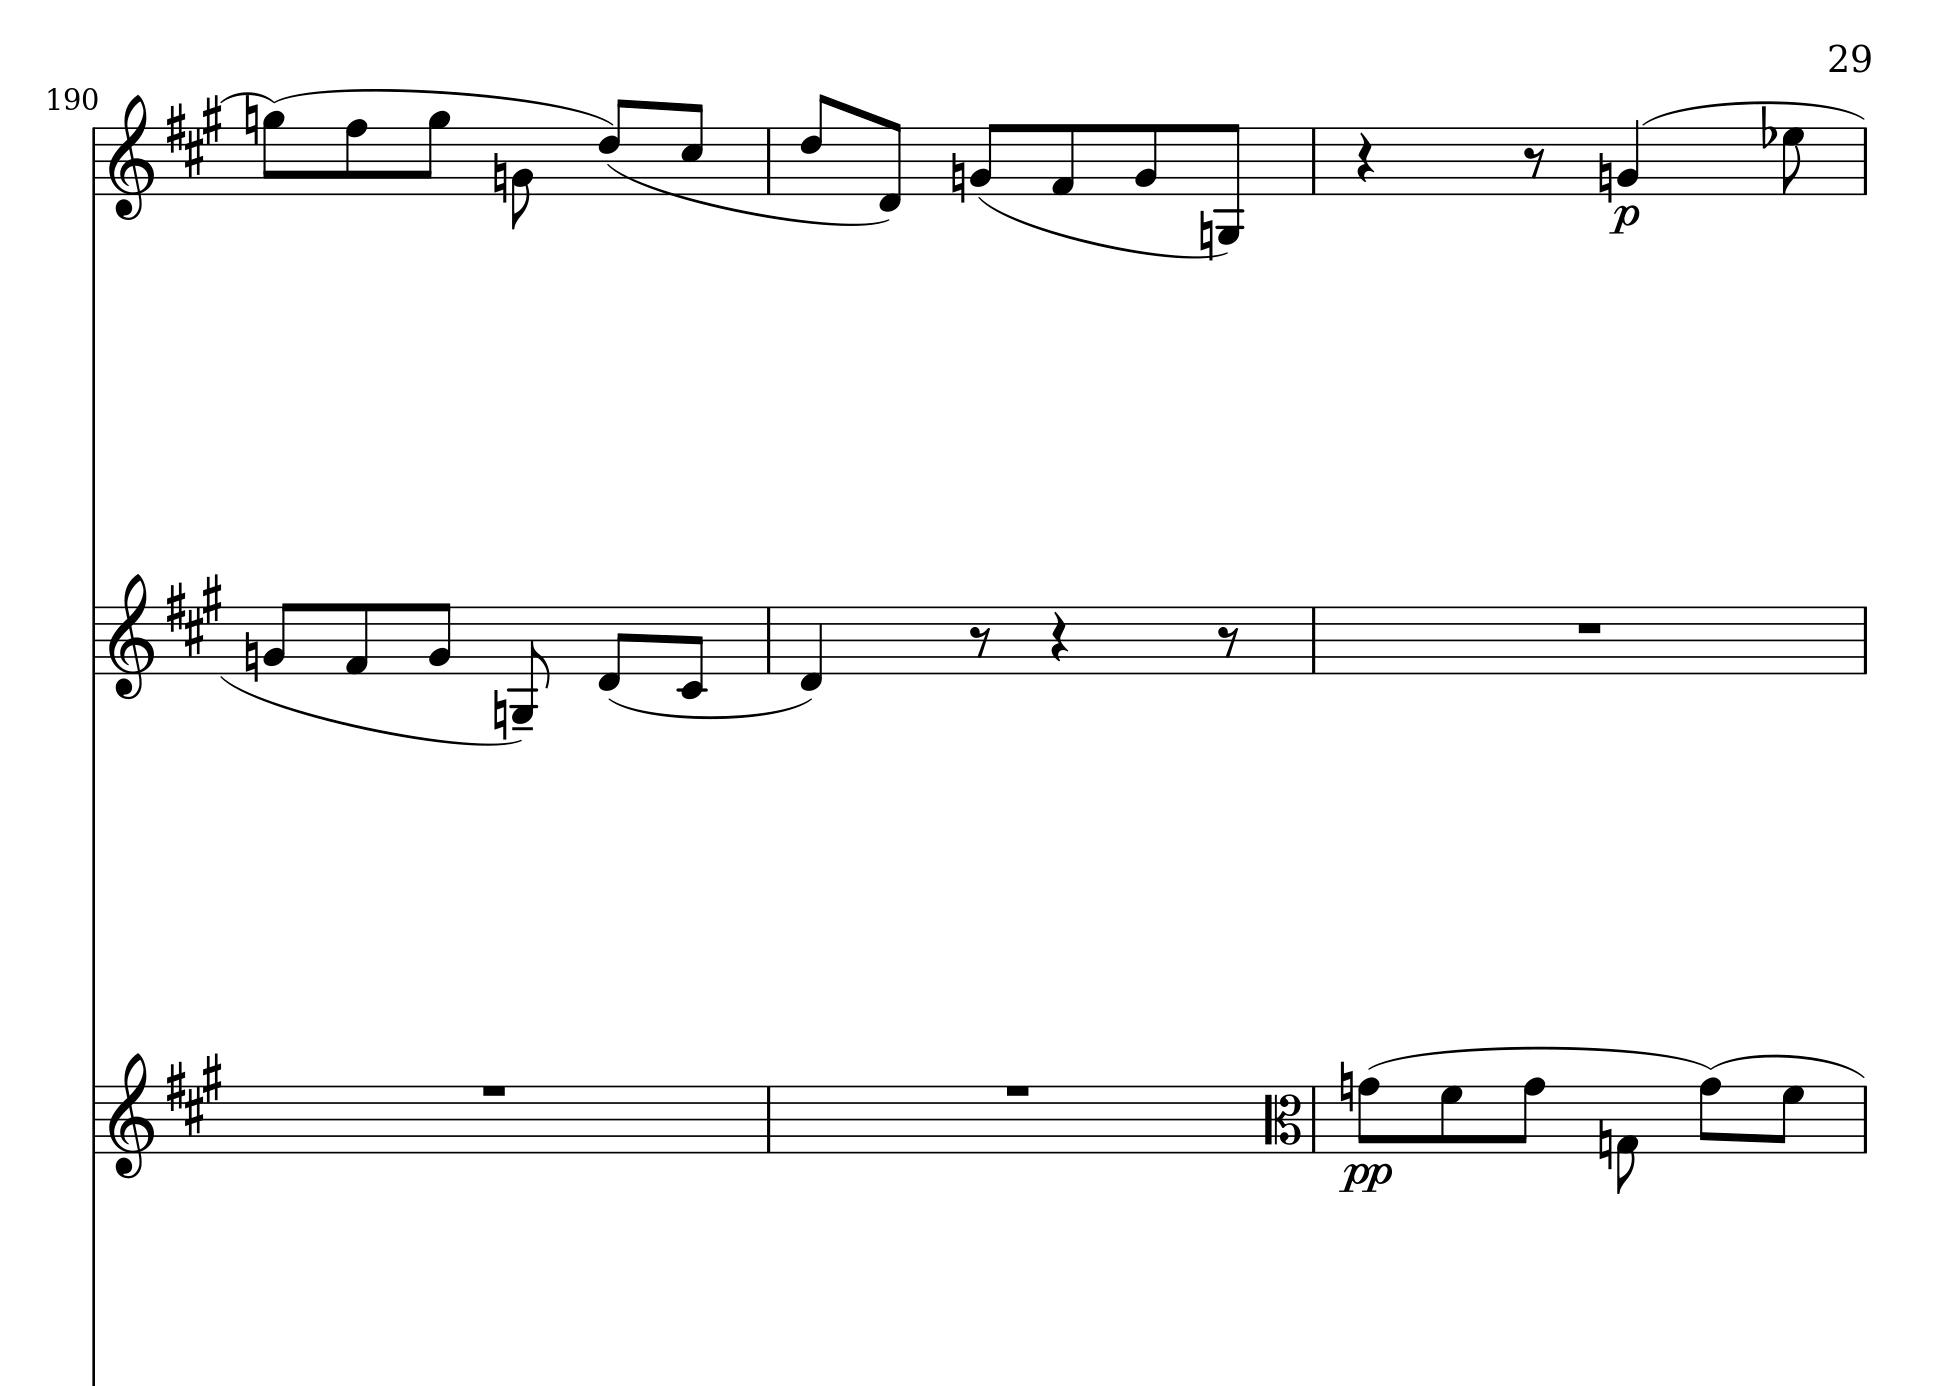0: (81, 82, 99, 114)
1: (46, 82, 61, 112)
2: (1827, 42, 1849, 73)
4_-1: (799, 604, 825, 691)
4_2: (1617, 115, 1644, 196)
8_-1: (595, 604, 628, 693), (877, 115, 904, 214)
8_-2: (678, 603, 706, 700)
8_-5: (508, 603, 550, 727), (1215, 120, 1245, 247)
8_1: (1615, 1083, 1641, 1194), (1050, 121, 1078, 198), (343, 601, 372, 676)
8_2: (969, 121, 1003, 196), (510, 124, 534, 229), (262, 600, 295, 675), (1134, 121, 1159, 196), (427, 600, 451, 676)
8_5: (679, 100, 705, 195)
8_6: (799, 91, 832, 196), (598, 96, 631, 196)
8_7: (1770, 1083, 1806, 1156), (1780, 126, 1806, 196), (1440, 1083, 1464, 1155)
8_8: (1512, 1075, 1546, 1155), (343, 117, 369, 196), (1356, 1075, 1381, 1155), (1698, 1075, 1723, 1155)
8_9: (415, 108, 450, 196), (261, 108, 286, 196)
9: (1851, 40, 1873, 73), (63, 82, 79, 112)
A_S: (163, 571, 226, 657), (163, 94, 222, 178), (165, 1051, 223, 1135)
Cclef: (1263, 1083, 1305, 1153)
Flat: (1759, 103, 1777, 150)
Gclef: (105, 570, 157, 703), (106, 1050, 157, 1180), (106, 93, 156, 220)
Natural: (241, 91, 259, 147), (949, 150, 967, 205), (490, 151, 508, 205), (1338, 1057, 1354, 1114), (243, 628, 259, 682), (1198, 208, 1215, 261), (492, 687, 508, 739), (1597, 1117, 1614, 1170), (1599, 150, 1614, 202)
Rests1: (1573, 618, 1606, 637), (478, 1080, 511, 1099), (1002, 1080, 1035, 1099)
Rests4: (1356, 130, 1375, 184), (1050, 610, 1069, 664)
Rests8: (967, 622, 993, 658), (1216, 622, 1240, 657), (1524, 145, 1548, 178)
Single_barline: (1855, 606, 1875, 673), (1305, 606, 1323, 673), (760, 1084, 778, 1152), (1305, 1084, 1323, 1152), (1305, 127, 1323, 193), (1857, 127, 1875, 193), (85, 606, 102, 675), (1857, 1086, 1873, 1152), (760, 127, 777, 192), (85, 127, 100, 196), (760, 606, 775, 673), (87, 1086, 100, 1153)
Slur: (220, 91, 276, 103)
p: (1608, 202, 1641, 238)
pp: (1338, 1161, 1393, 1194)
